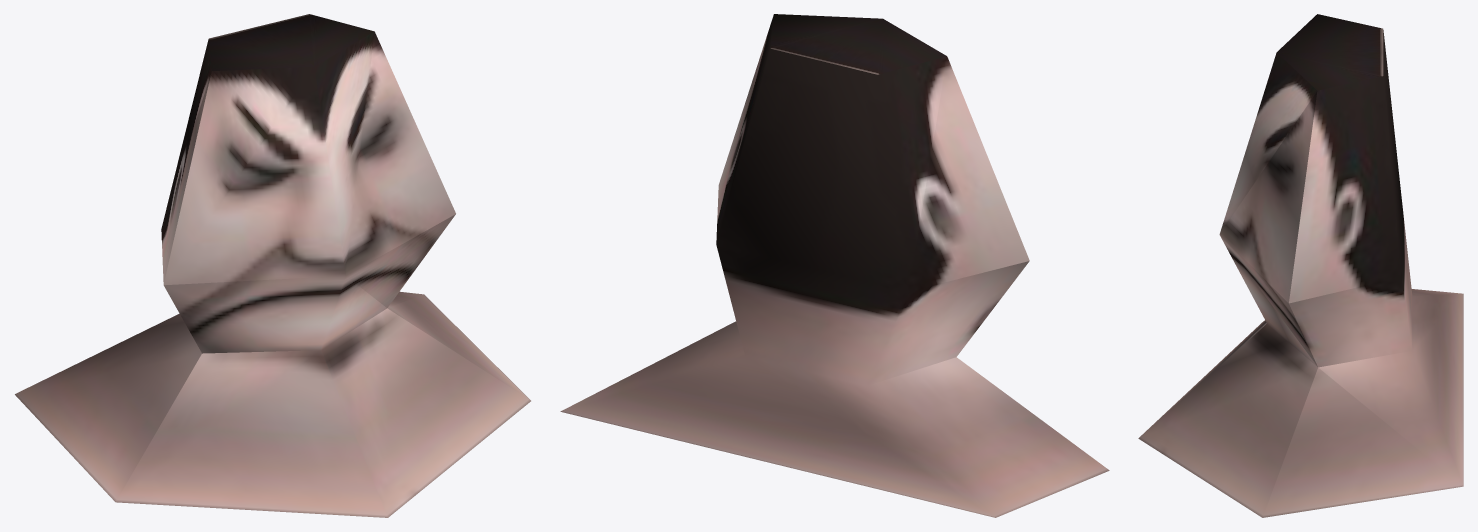
3 renders of one model, left to right at view 1: azimuth 30°, elevation 25°; view 2: azimuth 150°, elevation 25°; view 3: azimuth 270°, elevation 25°, orthographic. The views are drawn at different scales.
Parts seen in each view (by area): view 1: headhunter; view 2: headhunter; view 3: headhunter.
Part boxes in pixels (x1=…): headhunter: x1=15, y1=14, x2=530, y2=517; headhunter: x1=560, y1=14, x2=1109, y2=517; headhunter: x1=1138, y1=14, x2=1463, y2=517.
Size of the model in its own units: 1.15 by 1.06 by 0.8103.
Materials: 1 (1 with a texture image).
